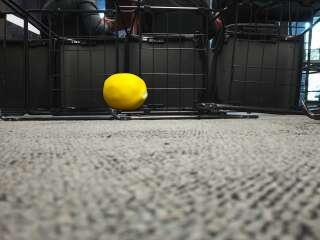lemon: (103, 73, 146, 110)
